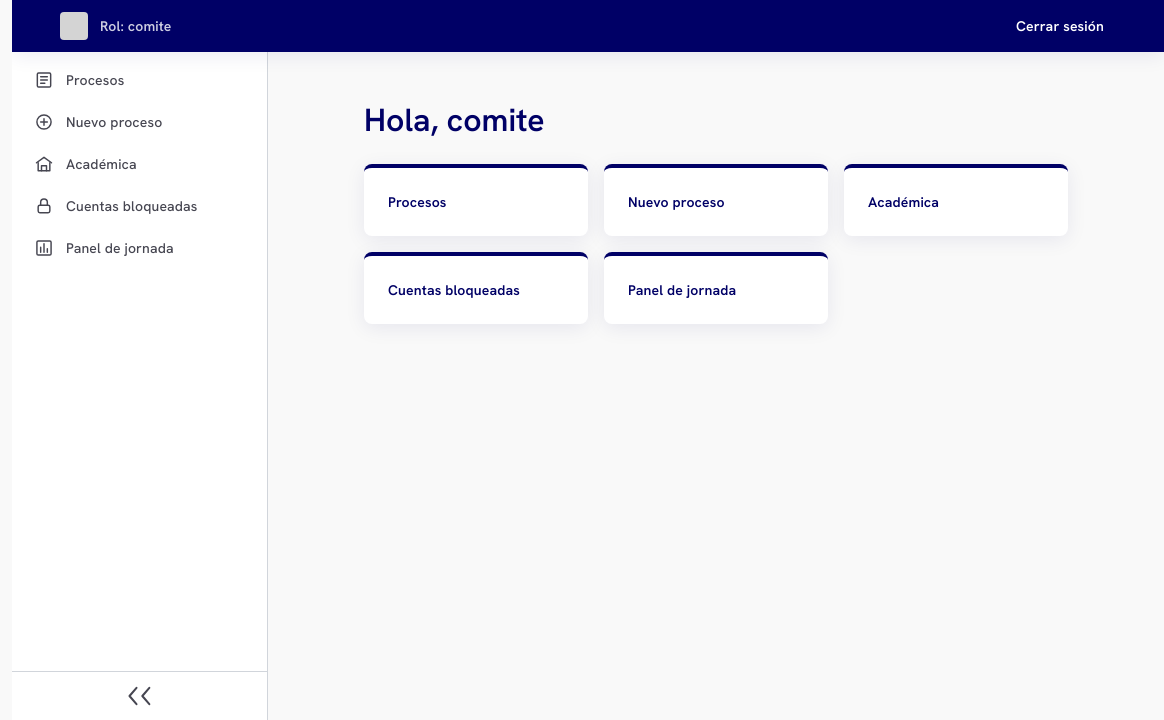
Test: Flujo de login (App) › "Cerrar sesión" vuelve a mostrar el login
The image size is (1164, 720).
Click the button "Cerrar sesión". click: coordinates (1060, 26)
box: top-left (1004, 8), bottom-right (1116, 44)
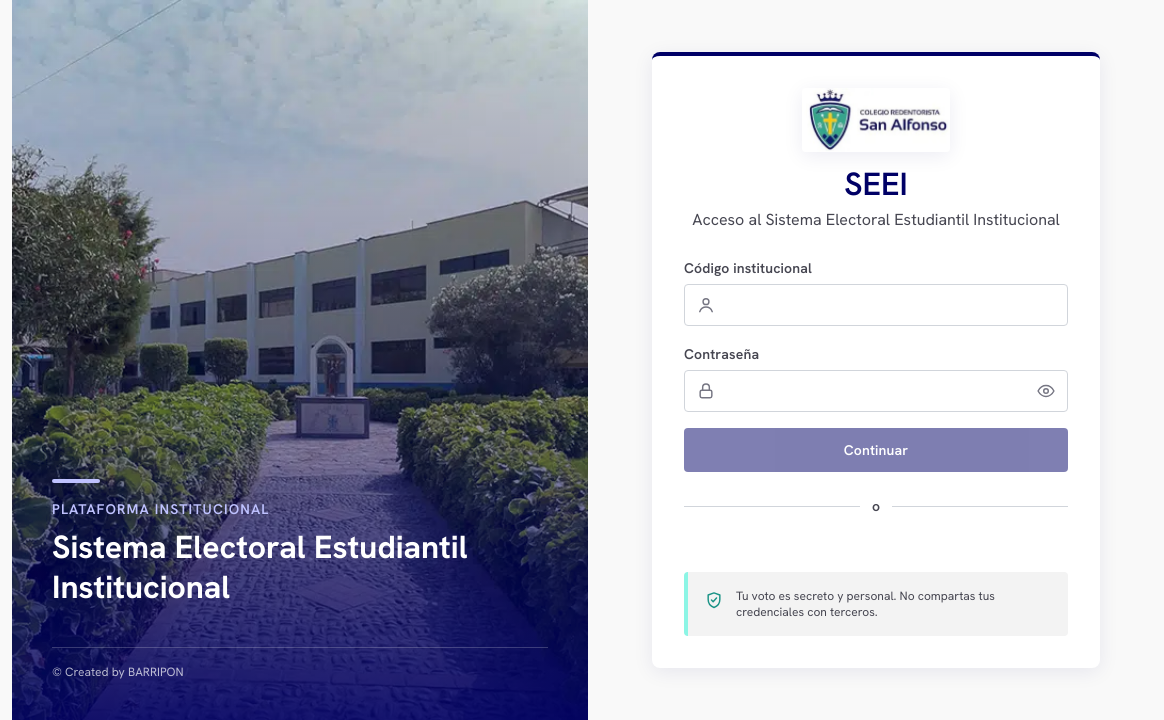
Expected: the field labelled "Código institucional" is shown, top-left (684, 284), bottom-right (1068, 326)
